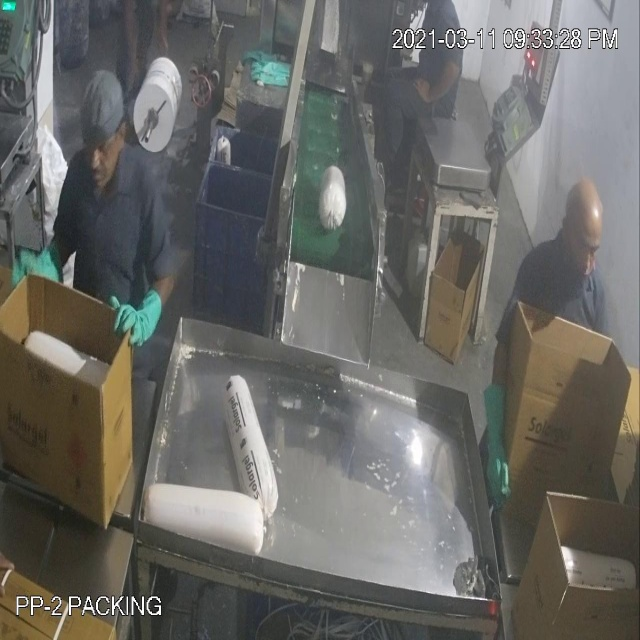Guantes: (103, 277, 168, 364), (484, 368, 516, 517)
Sin_guantes: (410, 59, 463, 112), (120, 1, 139, 93)
